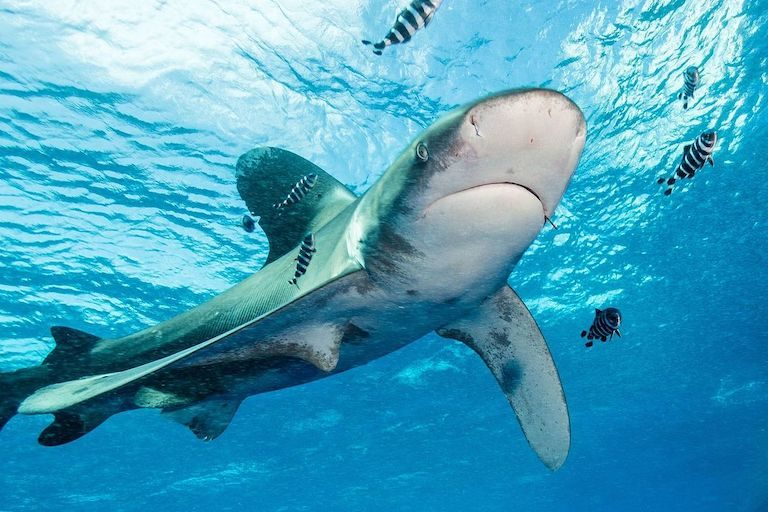shark: (1, 81, 598, 472)
